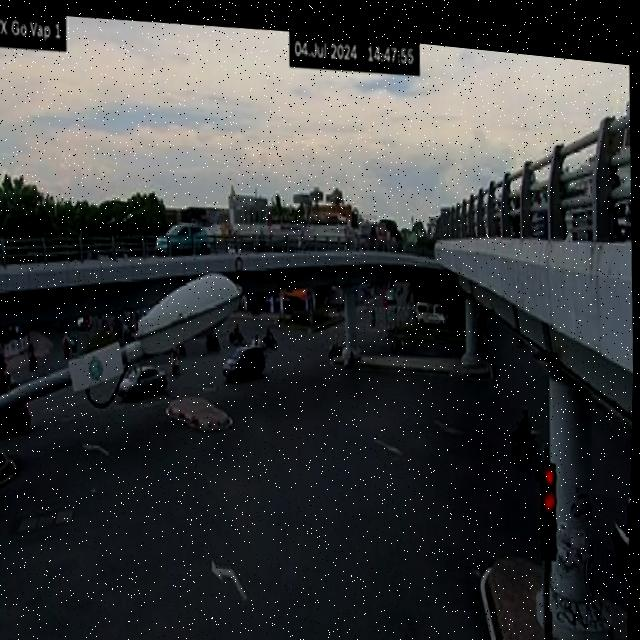Red: (539, 448, 561, 548)
